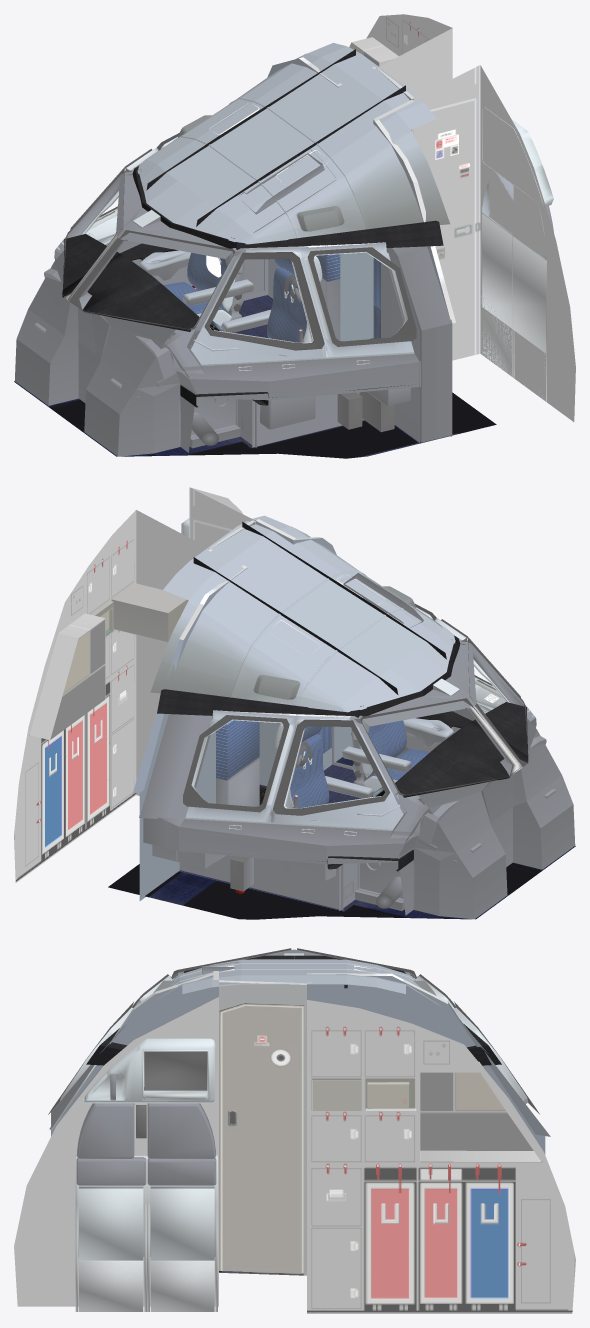
Rendered from a320-cockpit.glb.
3 views of the same model, one above another, from view 1: azimuth 30°, elevation 25°; view 2: azimuth 150°, elevation 25°; view 3: azimuth 270°, elevation 25° (orthographic). The views are drawn at different scales.
Parts seen in each view (by area): view 1: 111VU; view 2: 111VU; view 3: 111VU.
Part boxes in pixels (<box>): 111VU: <box>14,14,575,458</box>; 111VU: <box>14,487,575,919</box>; 111VU: <box>14,948,575,1313</box>.
Size of the model in its own units: 3.16 by 2.27 by 3.64.
Materials: 55 (49 with a texture image).
